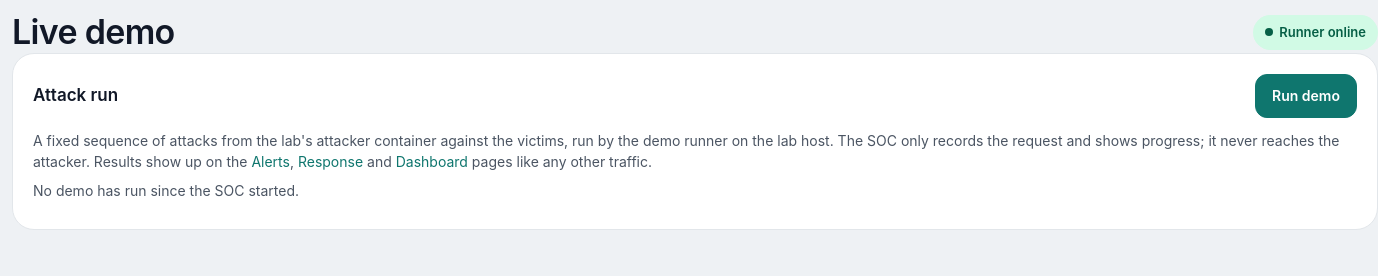
Test: Live demo page › shows the SOC's refusal
The width and height of the screenshot is (1378, 276).
Expected: the text "Runner online" is shown, [1253,15,1377,50]
Step 1. Click the button "Run demo" → click(1306, 96), box [1255,74,1357,118]
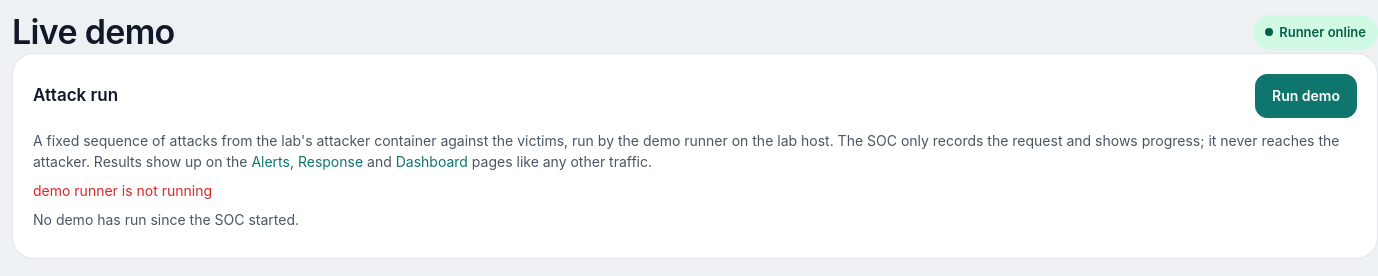
Result: the message reads "demo runner is not running" at [33,182,212,199]
